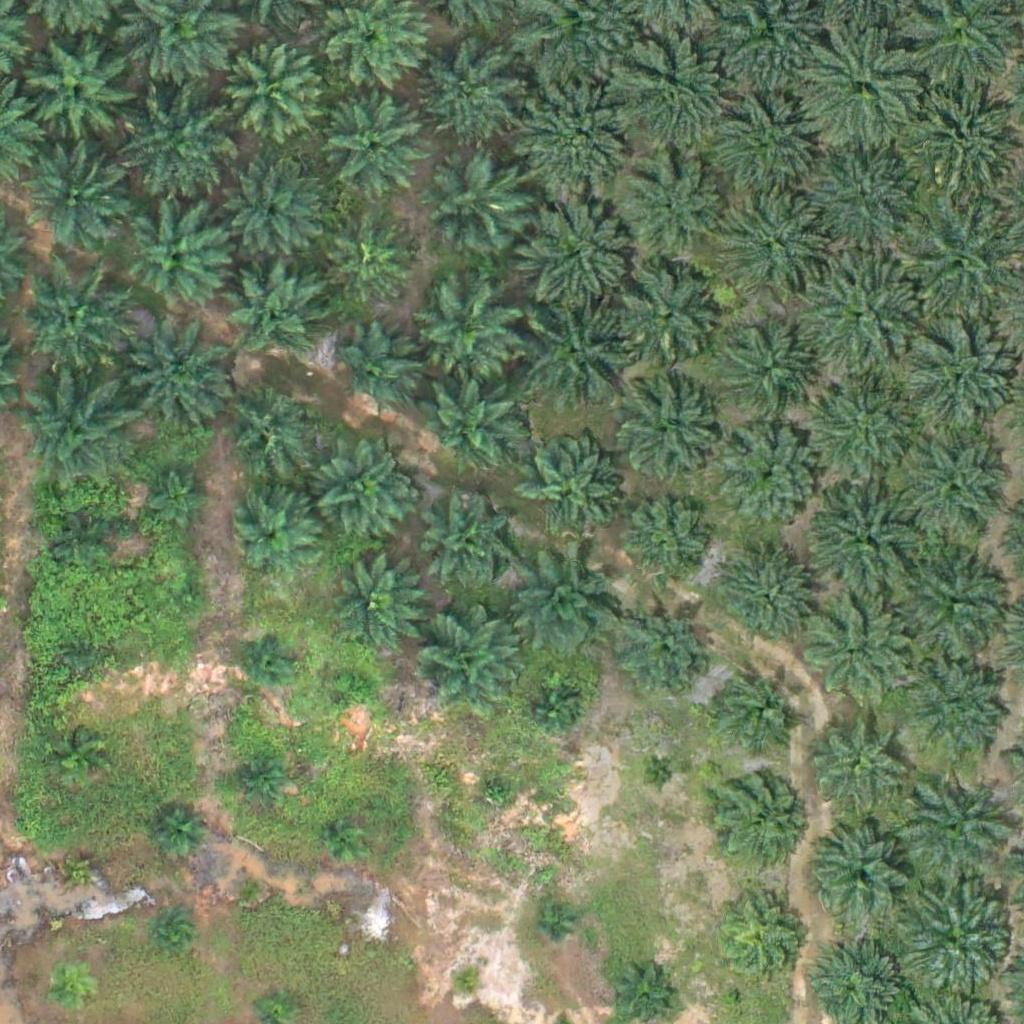Kelapa_Sawit: (517, 72, 642, 198), (608, 37, 733, 163), (801, 476, 926, 602), (798, 369, 923, 495), (798, 247, 923, 373), (800, 27, 925, 153), (898, 191, 1023, 317), (892, 540, 1017, 666), (512, 189, 637, 314), (890, 877, 1015, 1002), (801, 151, 914, 265), (121, 321, 234, 434), (119, 91, 232, 204), (521, 300, 634, 413), (512, 549, 625, 662), (897, 433, 1010, 546), (899, 654, 1012, 767), (896, 772, 1009, 885), (20, 265, 132, 378), (16, 373, 128, 486), (801, 599, 913, 712), (419, 373, 519, 474), (314, 442, 414, 543), (225, 166, 325, 267), (225, 260, 325, 361), (218, 379, 318, 480), (126, 206, 226, 307), (30, 42, 130, 143), (23, 139, 123, 240), (520, 440, 620, 541), (617, 388, 717, 489), (615, 267, 715, 368), (620, 155, 720, 256), (728, 197, 828, 298), (721, 426, 821, 527), (717, 551, 817, 652), (803, 705, 903, 806), (814, 822, 914, 923), (706, 660, 806, 761), (708, 766, 808, 867), (713, 887, 813, 988), (419, 614, 519, 715), (419, 49, 519, 149), (427, 157, 527, 257), (415, 283, 515, 383), (326, 99, 426, 199), (223, 44, 323, 144), (709, 90, 809, 190), (322, 554, 422, 654), (334, 327, 422, 415), (327, 219, 415, 307), (421, 497, 509, 585), (724, 331, 812, 419), (232, 494, 319, 583), (621, 605, 708, 694), (620, 498, 707, 586), (148, 462, 210, 525), (52, 731, 102, 782), (149, 811, 199, 862), (44, 968, 94, 1019), (527, 682, 577, 733), (57, 840, 107, 891), (59, 520, 109, 570), (233, 756, 283, 806), (246, 633, 296, 683), (336, 668, 374, 706), (327, 819, 365, 857), (479, 775, 517, 813), (641, 756, 679, 794), (447, 965, 485, 1003), (65, 635, 102, 673), (170, 580, 207, 618), (531, 904, 568, 942), (228, 865, 265, 903), (154, 915, 191, 952)
